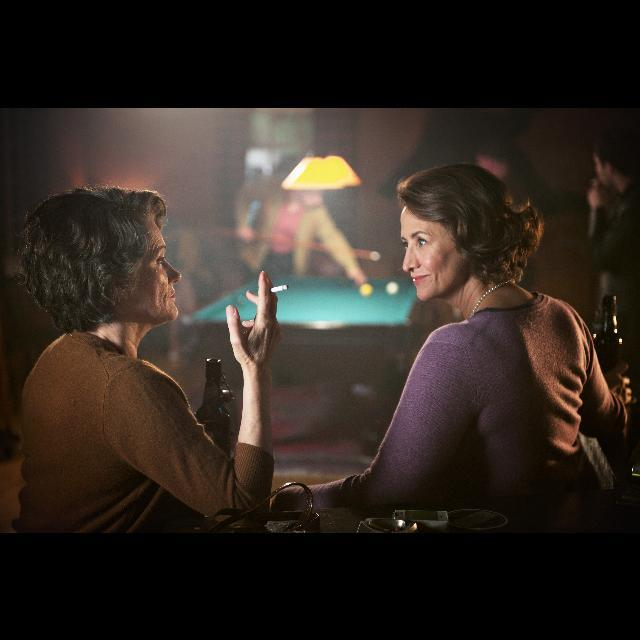rokok: (270, 281, 290, 293)
